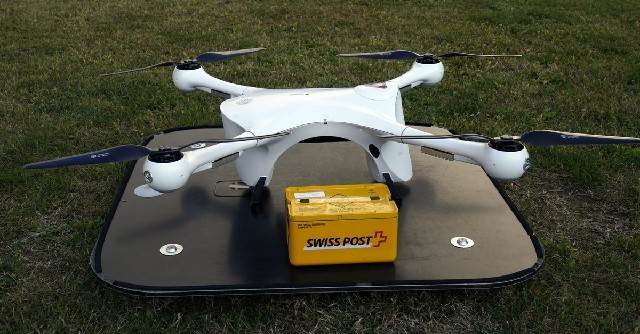maybay_khongnguoilai: (50, 44, 619, 220)
